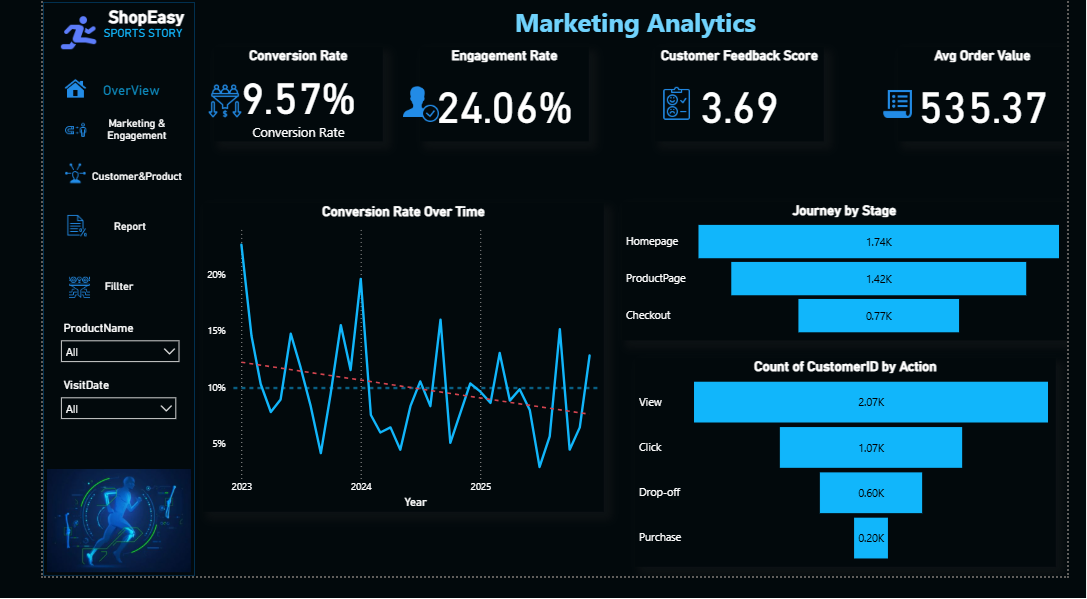

This screenshot's page, from the dashboard's own definition file:
{"tool":"powerbi","page":{"name":"OverVeiw","canvas":[1280,720],"ordinal":3},"visuals":[{"type":"shape","box":[0,2.2,190,717.8],"z":0},{"type":"card","title":"Conversion Rate","fields":{"Values":["Meagure.Conversion Rate"]},"box":[213.6,58.2,210.9,118.2],"z":1000,"group":"g5"},{"type":"funnel","title":"Journey by Stage","fields":{"Category":["customer_journey.Stage","customer_journey.Action"],"Y":["CountNonNull(customer_journey.JourneyID)"]},"box":[208.6,468.6,497.1,228.6],"z":1000},{"type":"card","title":"Engagement Rate","fields":{"Values":["Meagure.Engagement Rate"]},"box":[427.4,58.2,211.1,117.8],"z":2000,"group":"g6"},{"type":"stackedAreaChart","fields":{"Category":["customer_journey.VisitDate.Variation.Date Hierarchy.Year","customer_journey.VisitDate.Variation.Date Hierarchy.Quarter","customer_journey.VisitDate.Variation.Date Hierarchy.Month","customer_journey.VisitDate.Variation.Date Hierarchy.Day"],"Y":["Meagure.Total Revenue"]},"box":[718.3,468.3,560,228.3],"z":2000},{"type":"textbox","box":[403.3,0,673.3,62.2],"z":3000},{"type":"card","title":"Avg Order Value","fields":{"Values":["Sum(vw_AverageOrderValue.AOV)"]},"box":[855.3,58.2,211.1,117.8],"z":3000,"group":"g8"},{"type":"card","title":"Customer Feedback Score","fields":{"Values":["Sum(py_kpi_summary.Avg_Rating)"]},"box":[641.3,58.2,211.1,117.8],"z":4000,"group":"g7"},{"type":"slicer","fields":{"Values":["customer_journey.VisitDate"]},"box":[13,469,164,61],"z":4000},{"type":"image","box":[10,10,69,63],"z":5000},{"type":"card","title":"Total Revenue","fields":{"Values":["Sum(vw_RevenuePerPurchase.Total_Revenue)"]},"box":[1069.2,58.2,210.8,116.9],"z":5000,"group":"g9"},{"type":"clusteredBarChart","fields":{"Y":["Meagure.Total Revenue"],"Category":["products.ProductName"]},"box":[735.7,198.6,532.9,248.6],"z":6000},{"type":"actionButton","title":"ShopEasy","box":[48.9,8.9,161.1,34.4],"z":7000},{"type":"actionButton","title":"SPORTS STORY","box":[68.9,33.3,112.2,18.9],"z":8000},{"type":"group","id":"g1","title":"Group 2","box":[17,93,146,38],"z":9000},{"type":"group","id":"g2","title":"Group 3","box":[17,144,158,38],"z":10000},{"type":"actionButton","title":"Customer&Product","box":[61,213,116,23],"z":11000},{"type":"image","box":[17,198,46,38],"z":12000},{"type":"group","id":"g3","title":"Group 4","box":[17,262,141,38],"z":13000},{"type":"actionButton","title":"Fillter","box":[45.7,350,100,17.1],"z":13000,"group":"g4"},{"type":"actionButton","title":" Marketing & Engagement ","box":[58,147,117,32],"z":14000,"group":"g2"},{"type":"group","id":"g4","title":"Group 5","box":[23,340,122.7,38],"z":14000},{"type":"image","box":[0,581.1,190,138.9],"z":15000},{"type":"lineChart","title":"Conversion Rate Over Time","fields":{"Category":["customer_journey.VisitDate.Variation.Date Hierarchy.Year","customer_journey.VisitDate.Variation.Date Hierarchy.Quarter","customer_journey.VisitDate.Variation.Date Hierarchy.Month","customer_journey.VisitDate.Variation.Date Hierarchy.Day"],"Y":["Meagure.Conversion Rate"]},"box":[206.7,198.3,511.7,248.3],"z":16000},{"type":"image","box":[23,340,46,38],"z":16000,"group":"g4"},{"type":"actionButton","title":"Report","box":[58,274,100,26],"z":17000,"group":"g3"},{"type":"slicer","fields":{"Values":["products.ProductName"]},"box":[13,397,168,57],"z":17000},{"type":"group","id":"g5","title":"Group 1","box":[200,58.2,224.5,118.2],"z":18000},{"type":"group","id":"g6","title":"Group 6","box":[407.5,58.2,231,117.8],"z":19000},{"type":"group","id":"g7","title":"Group 7","box":[641.2,58.2,211.2,117.8],"z":20000},{"type":"image","box":[17,93,46,38],"z":20000,"group":"g1"},{"type":"group","id":"g8","title":"Group 8","box":[827.5,58.2,238.9,117.8],"z":21000},{"type":"actionButton","title":"OverView","box":[75,103,88,28],"z":21000,"group":"g1"},{"type":"group","id":"g9","title":"Group 9","box":[1050,58.2,230,116.9],"z":22000},{"type":"image","box":[17,144,46,38],"z":22000,"group":"g2"},{"type":"image","box":[200,98.2,54.5,55.5],"z":23000,"group":"g5"},{"type":"image","box":[407.5,107.5,55,55],"z":23001,"group":"g6"},{"type":"image","box":[641.2,102.5,53.8,55],"z":23002,"group":"g7"},{"type":"image","box":[827.5,102.5,53.8,55],"z":23003,"group":"g8"},{"type":"image","box":[1050,107.5,53.8,55],"z":23004,"group":"g9"},{"type":"image","box":[17,262,46,38],"z":24000,"group":"g3"}]}

Visuals, with their boxes in screenshot pixels (x1, y1, x2, y2), scaled from the page's 1280x720 canvas onto the 1087x599 screenshot:
shape: detection(0, 2, 161, 598)
"Conversion Rate" card: detection(181, 48, 360, 147)
"Journey by Stage" funnel: detection(177, 390, 599, 580)
"Engagement Rate" card: detection(363, 48, 542, 146)
stackedAreaChart - customer_journey.VisitDate.Variation.Date Hierarchy.Year x customer_journey.VisitDate.Variation.Date Hierarchy.Quarter: detection(610, 390, 1086, 580)
textbox: detection(342, 0, 914, 52)
"Avg Order Value" card: detection(726, 48, 906, 146)
"Customer Feedback Score" card: detection(545, 48, 724, 146)
slicer - customer_journey.VisitDate: detection(11, 390, 150, 441)
image: detection(8, 8, 67, 61)
"Total Revenue" card: detection(908, 48, 1086, 146)
clusteredBarChart - Meagure.Total Revenue x products.ProductName: detection(625, 165, 1077, 372)
"ShopEasy" actionButton: detection(42, 7, 178, 36)
"SPORTS STORY" actionButton: detection(59, 28, 154, 43)
"Group 2" group: detection(14, 77, 138, 109)
"Group 3" group: detection(14, 120, 149, 151)
"Customer&Product" actionButton: detection(52, 177, 150, 196)
image: detection(14, 165, 54, 196)
"Group 4" group: detection(14, 218, 134, 250)
"Fillter" actionButton: detection(39, 291, 124, 305)
" Marketing & Engagement " actionButton: detection(49, 122, 149, 149)
"Group 5" group: detection(20, 283, 124, 314)
image: detection(0, 483, 161, 598)
"Conversion Rate Over Time" lineChart: detection(176, 165, 610, 372)
image: detection(20, 283, 59, 314)
"Report" actionButton: detection(49, 228, 134, 250)
slicer - products.ProductName: detection(11, 330, 154, 378)
"Group 1" group: detection(170, 48, 360, 147)
"Group 6" group: detection(346, 48, 542, 146)
"Group 7" group: detection(545, 48, 724, 146)
image: detection(14, 77, 54, 109)
"Group 8" group: detection(703, 48, 906, 146)
"OverView" actionButton: detection(64, 86, 138, 109)
"Group 9" group: detection(892, 48, 1086, 146)
image: detection(14, 120, 54, 151)
image: detection(170, 82, 216, 128)
image: detection(346, 89, 393, 135)
image: detection(545, 85, 590, 131)
image: detection(703, 85, 748, 131)
image: detection(892, 89, 937, 135)
image: detection(14, 218, 54, 250)
